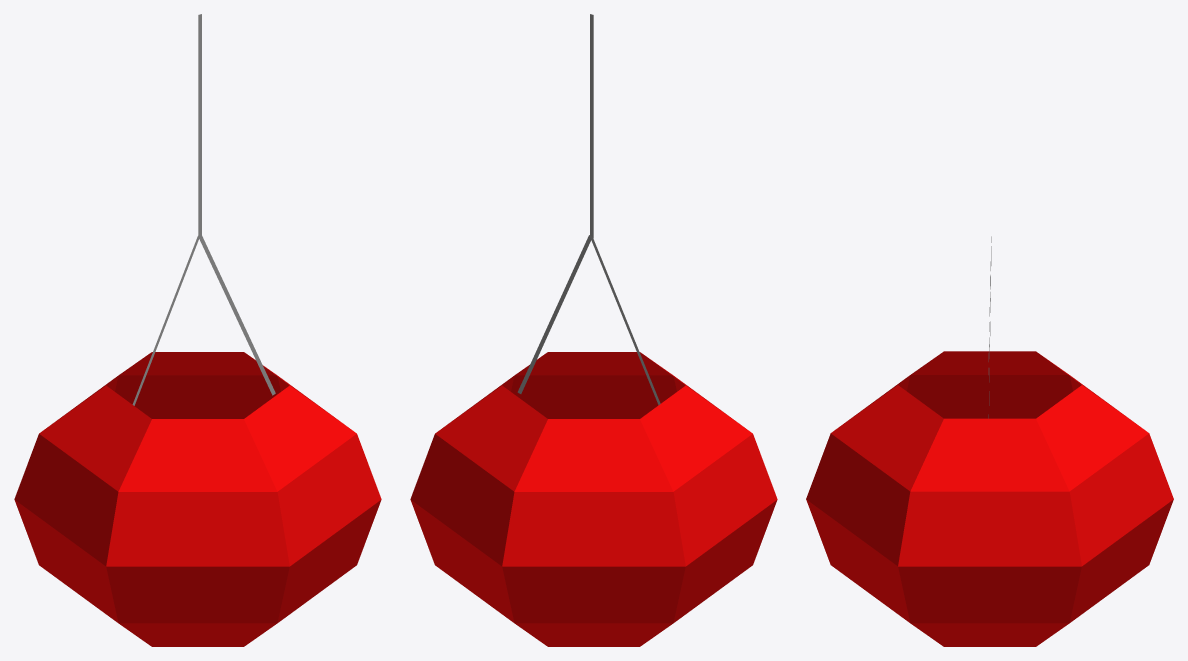
Rendered from Paperlight_02.glb.
3 renders of one model, left to right at view 1: azimuth 30°, elevation 25°; view 2: azimuth 150°, elevation 25°; view 3: azimuth 270°, elevation 25°, orthographic.
Parts seen in each view (by area): view 1: paperlight_02_geo; view 2: paperlight_02_geo; view 3: paperlight_02_geo.
Boxes of the visible parts, box(x1,y1,x2,y2) form: paperlight_02_geo: box(14, 14, 381, 646); paperlight_02_geo: box(410, 14, 777, 646); paperlight_02_geo: box(806, 236, 1173, 646).
Size of what is drawn, in the model's own units: 0.6457 by 1.34 by 0.7456.
1 material, 1 textured.
